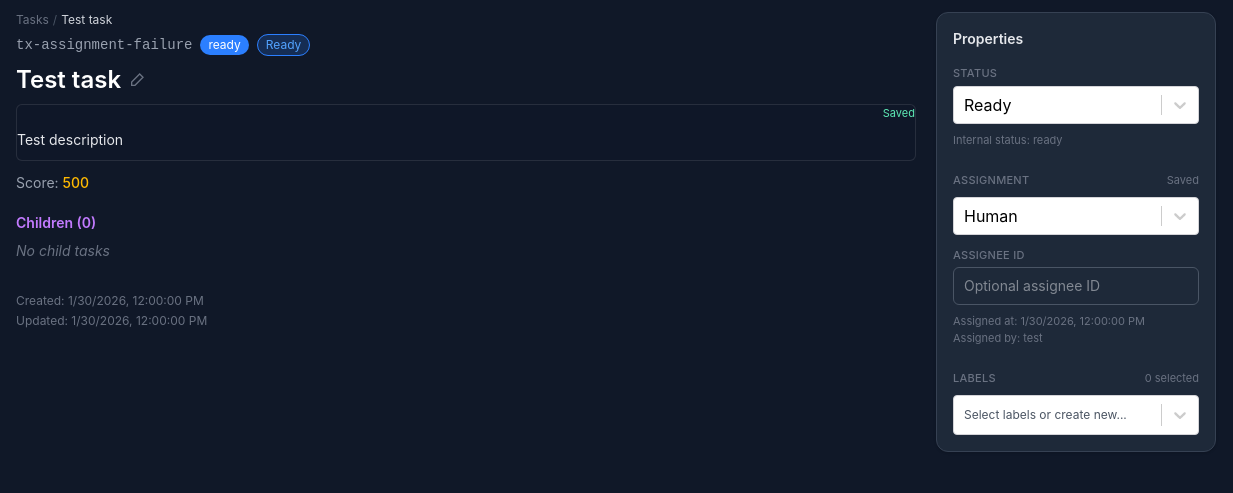
TaskDetail › preserves the assignment error from a rejected parent save
The image size is (1233, 493).
Type "bob" into the field labelled "Assignee ID" at (1076, 286), box x1=953 y1=267 x2=1199 y2=305
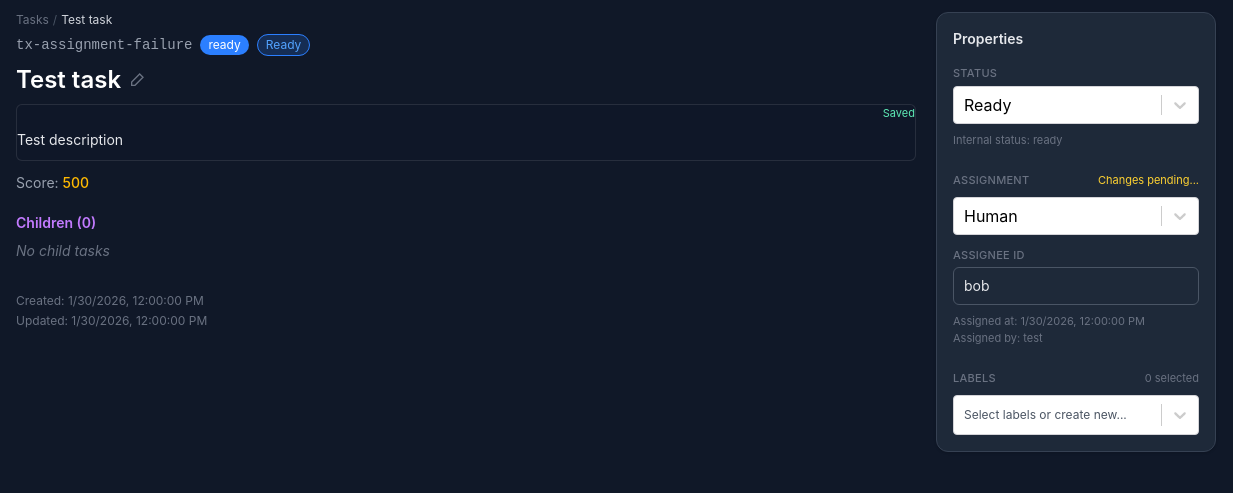
Press Enter in the field labelled "Assignee ID", box x1=953 y1=267 x2=1199 y2=305
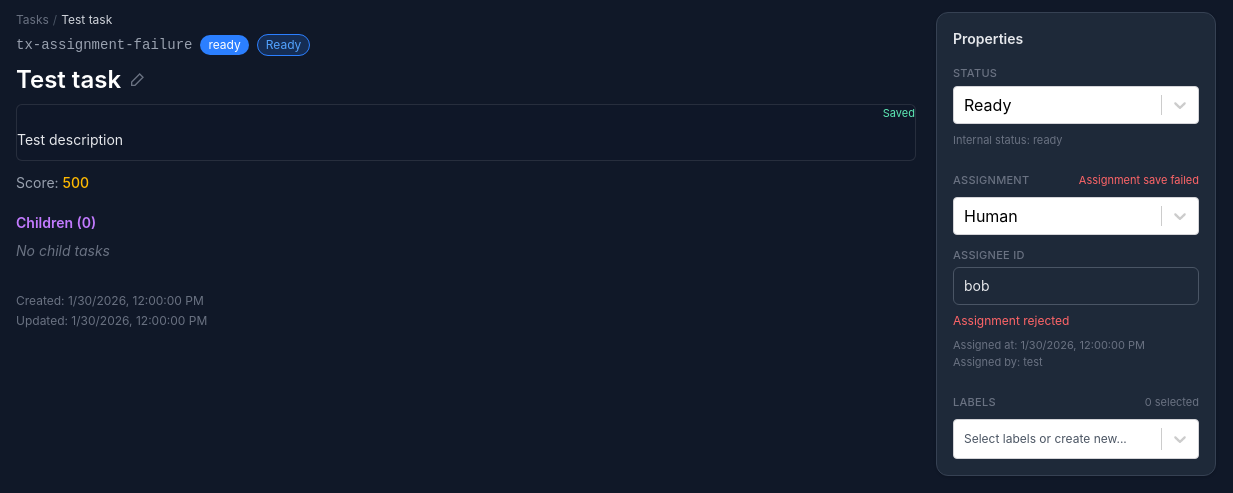
Check: the message reads "Assignment rejected", box x1=953 y1=313 x2=1069 y2=328
